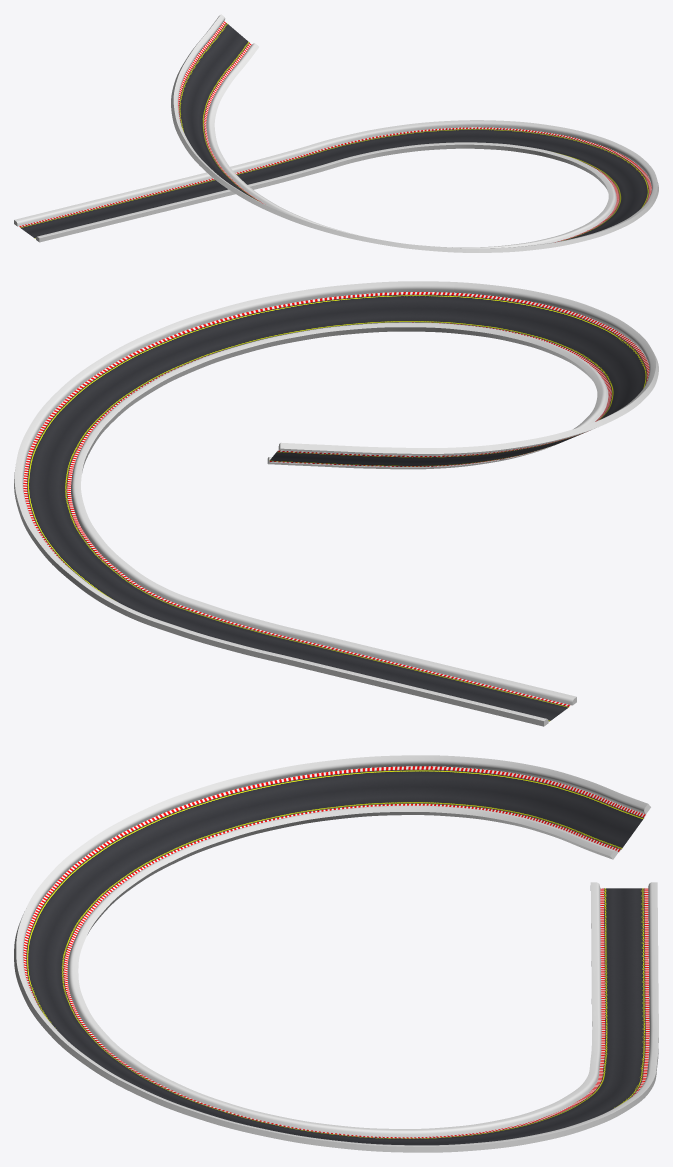
File: level 5 patch 2.fbx
3 renders of one model, top to bottom at view 1: azimuth 30°, elevation 25°; view 2: azimuth 150°, elevation 25°; view 3: azimuth 270°, elevation 25°, orthographic. The views are drawn at different scales.
Parts seen in each view (by area): view 1: plane, side cube 1, side cube 2; view 2: plane, side cube 1, side cube 2; view 3: plane, side cube 1, side cube 2.
Part boxes in pixels (x1,y1,x2,y2): plane: (18,21,651,242); side cube 1: (14,14,658,252); side cube 2: (36,43,616,248); plane: (23,292,649,721); side cube 1: (14,281,658,726); side cube 2: (71,322,608,705); plane: (23,766,649,1145); side cube 1: (14,755,658,1152); side cube 2: (67,805,618,1137).
Size of the model in its own units: 20902 by 6644 by 18034.
